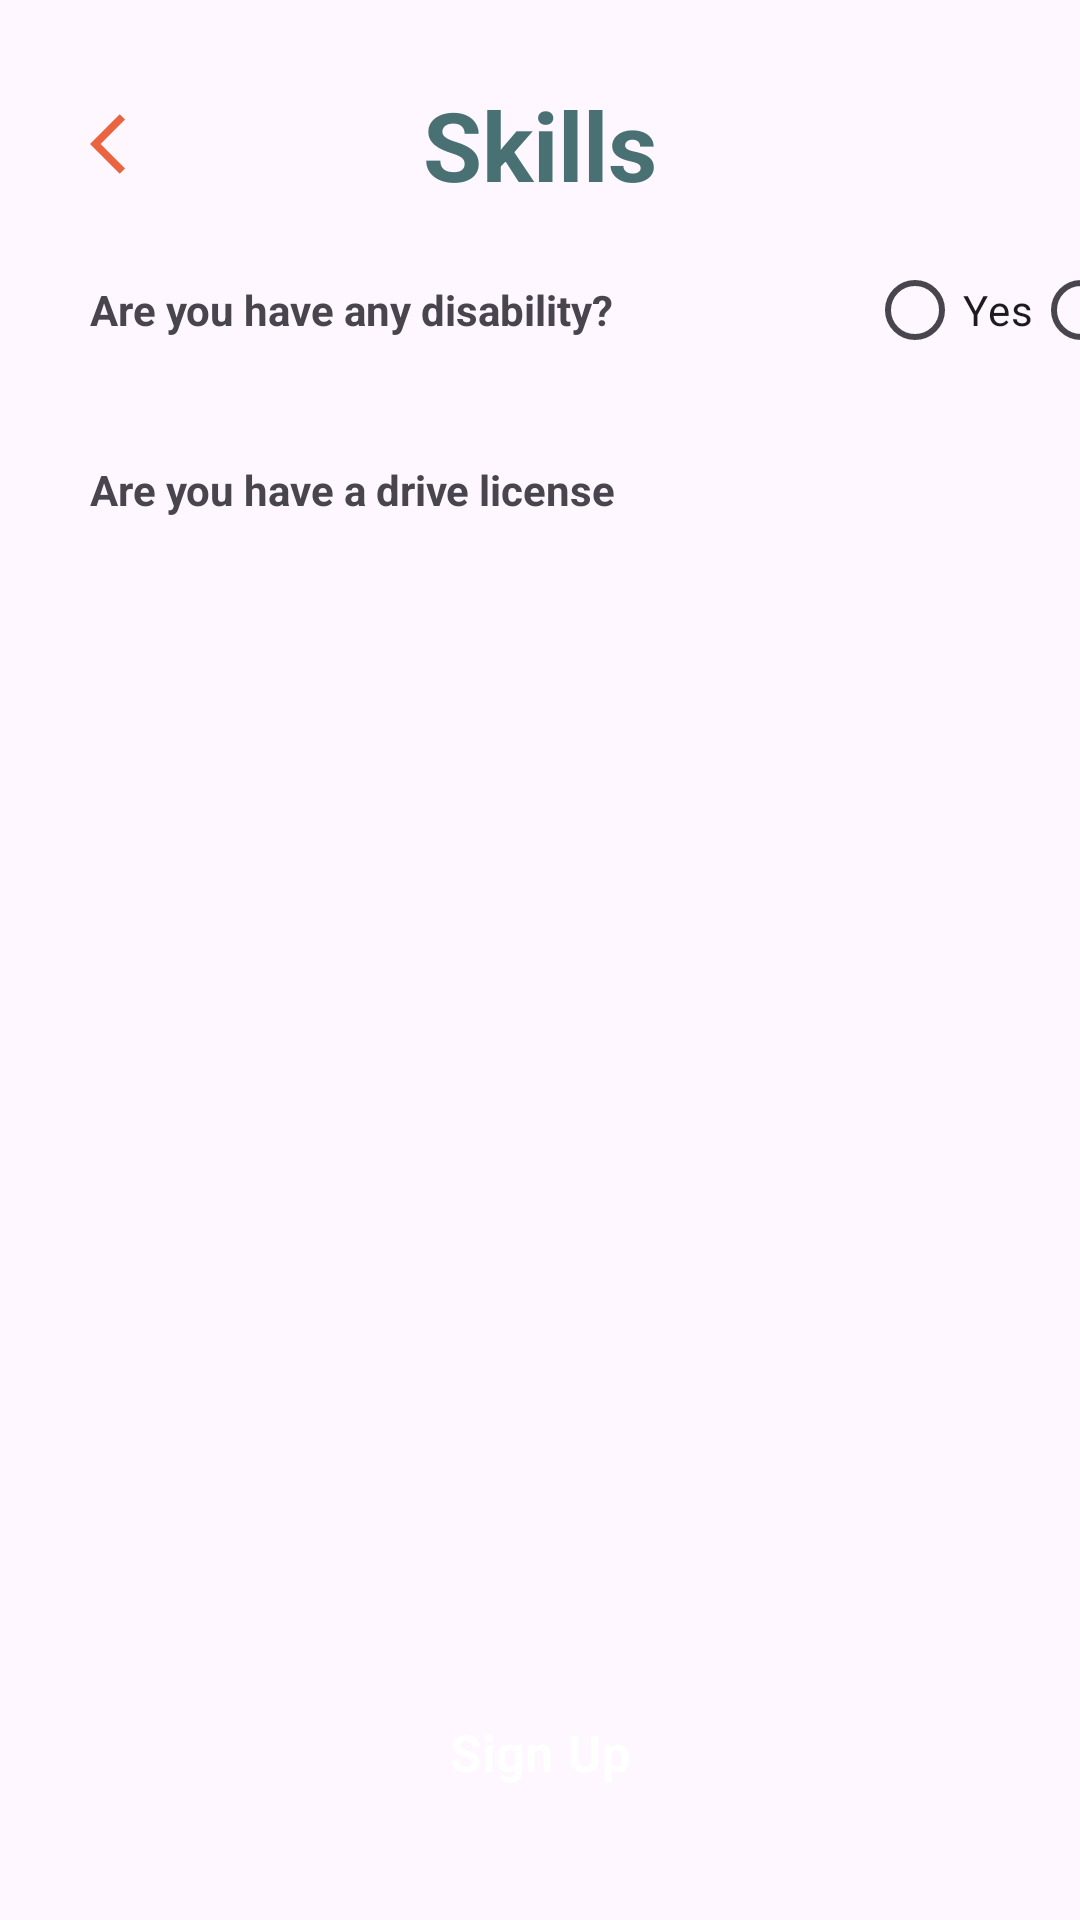

Icons on this 1080 × 1920 Android screen, each with its box as (x1, y1, x2, y2):
back arrow: (90, 114, 125, 174)
